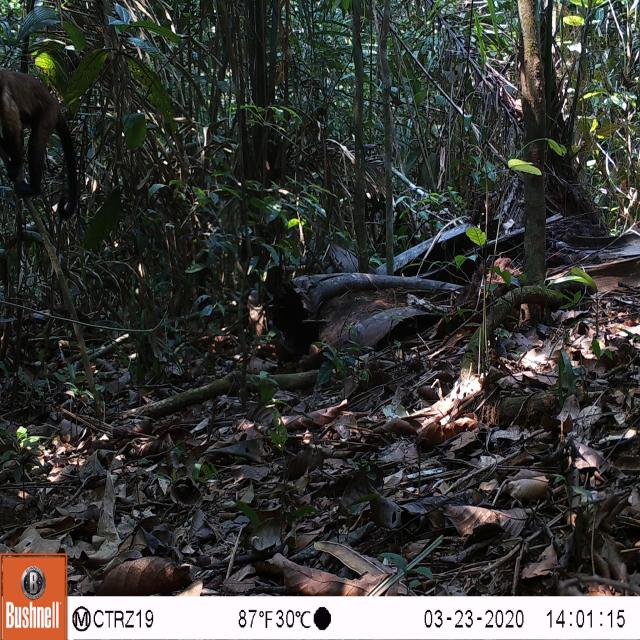Margarita Island Capuchin: (0, 64, 93, 231)
